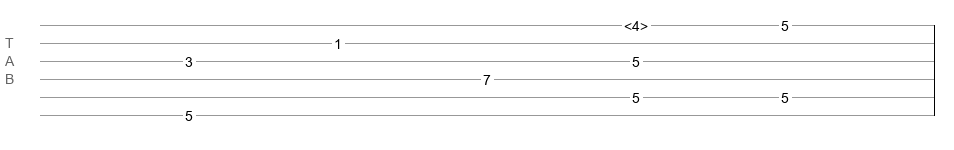1: (334, 36, 342, 46)
3: (185, 54, 193, 64)
5: (185, 108, 193, 118), (632, 54, 640, 64), (632, 90, 640, 100), (781, 90, 789, 100), (781, 18, 789, 28)
7: (483, 72, 491, 82)
harmonic: (624, 18, 648, 28)
